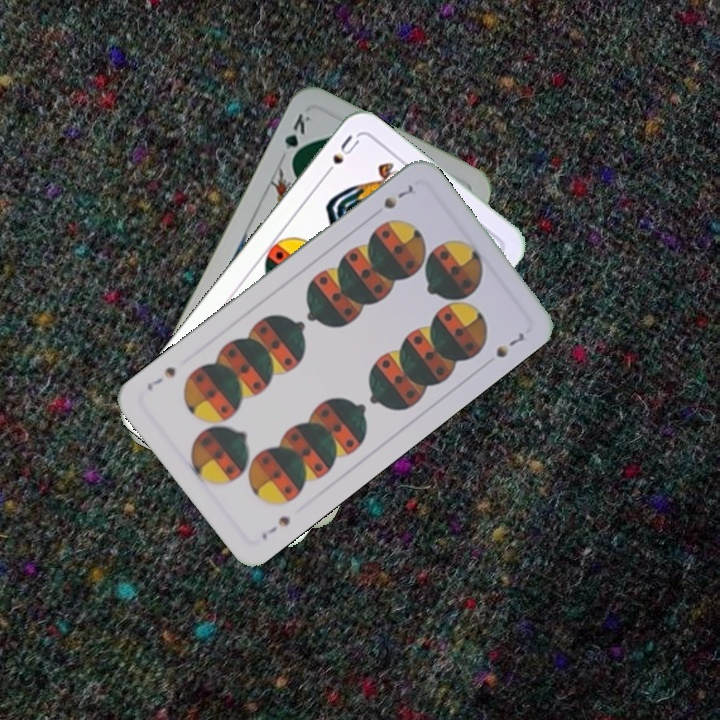GK: (280, 109, 313, 166)
S7: (379, 180, 416, 212), (257, 511, 293, 543)
SU: (318, 131, 362, 181)
